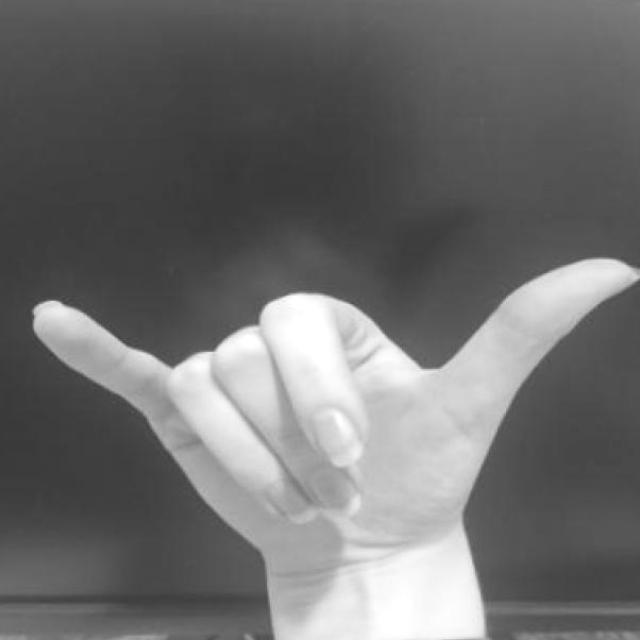Y: (25, 236, 640, 581)
